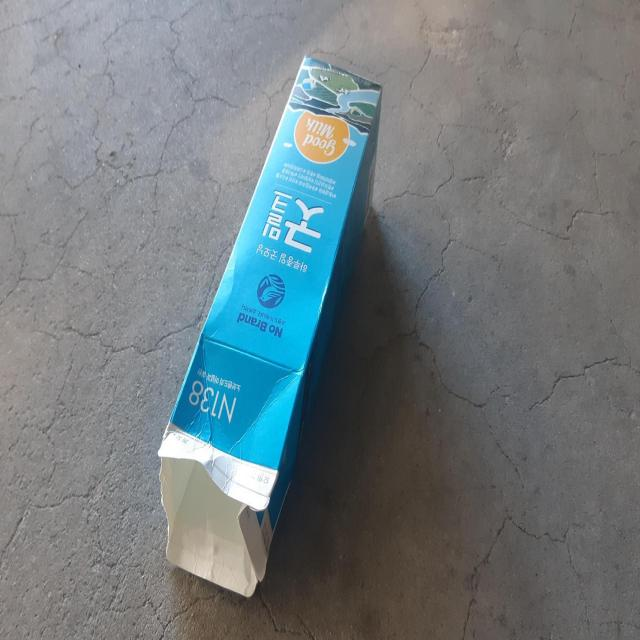paperpack: (158, 56, 382, 597)
